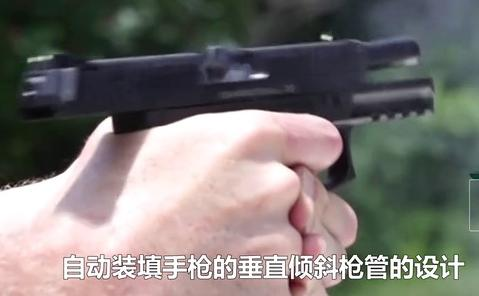gun: (1, 1, 479, 296)
